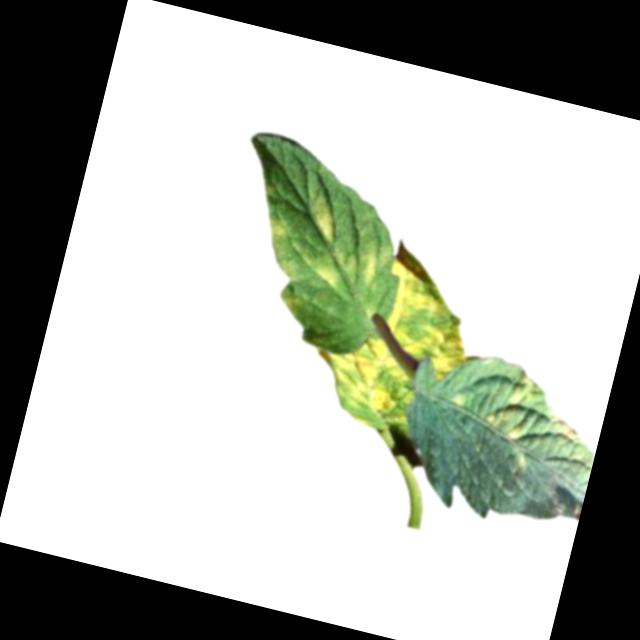Leaf_Mold: (365, 239, 488, 387), (473, 365, 592, 481), (306, 326, 431, 436), (301, 229, 395, 301), (304, 192, 345, 244), (262, 211, 301, 246)
